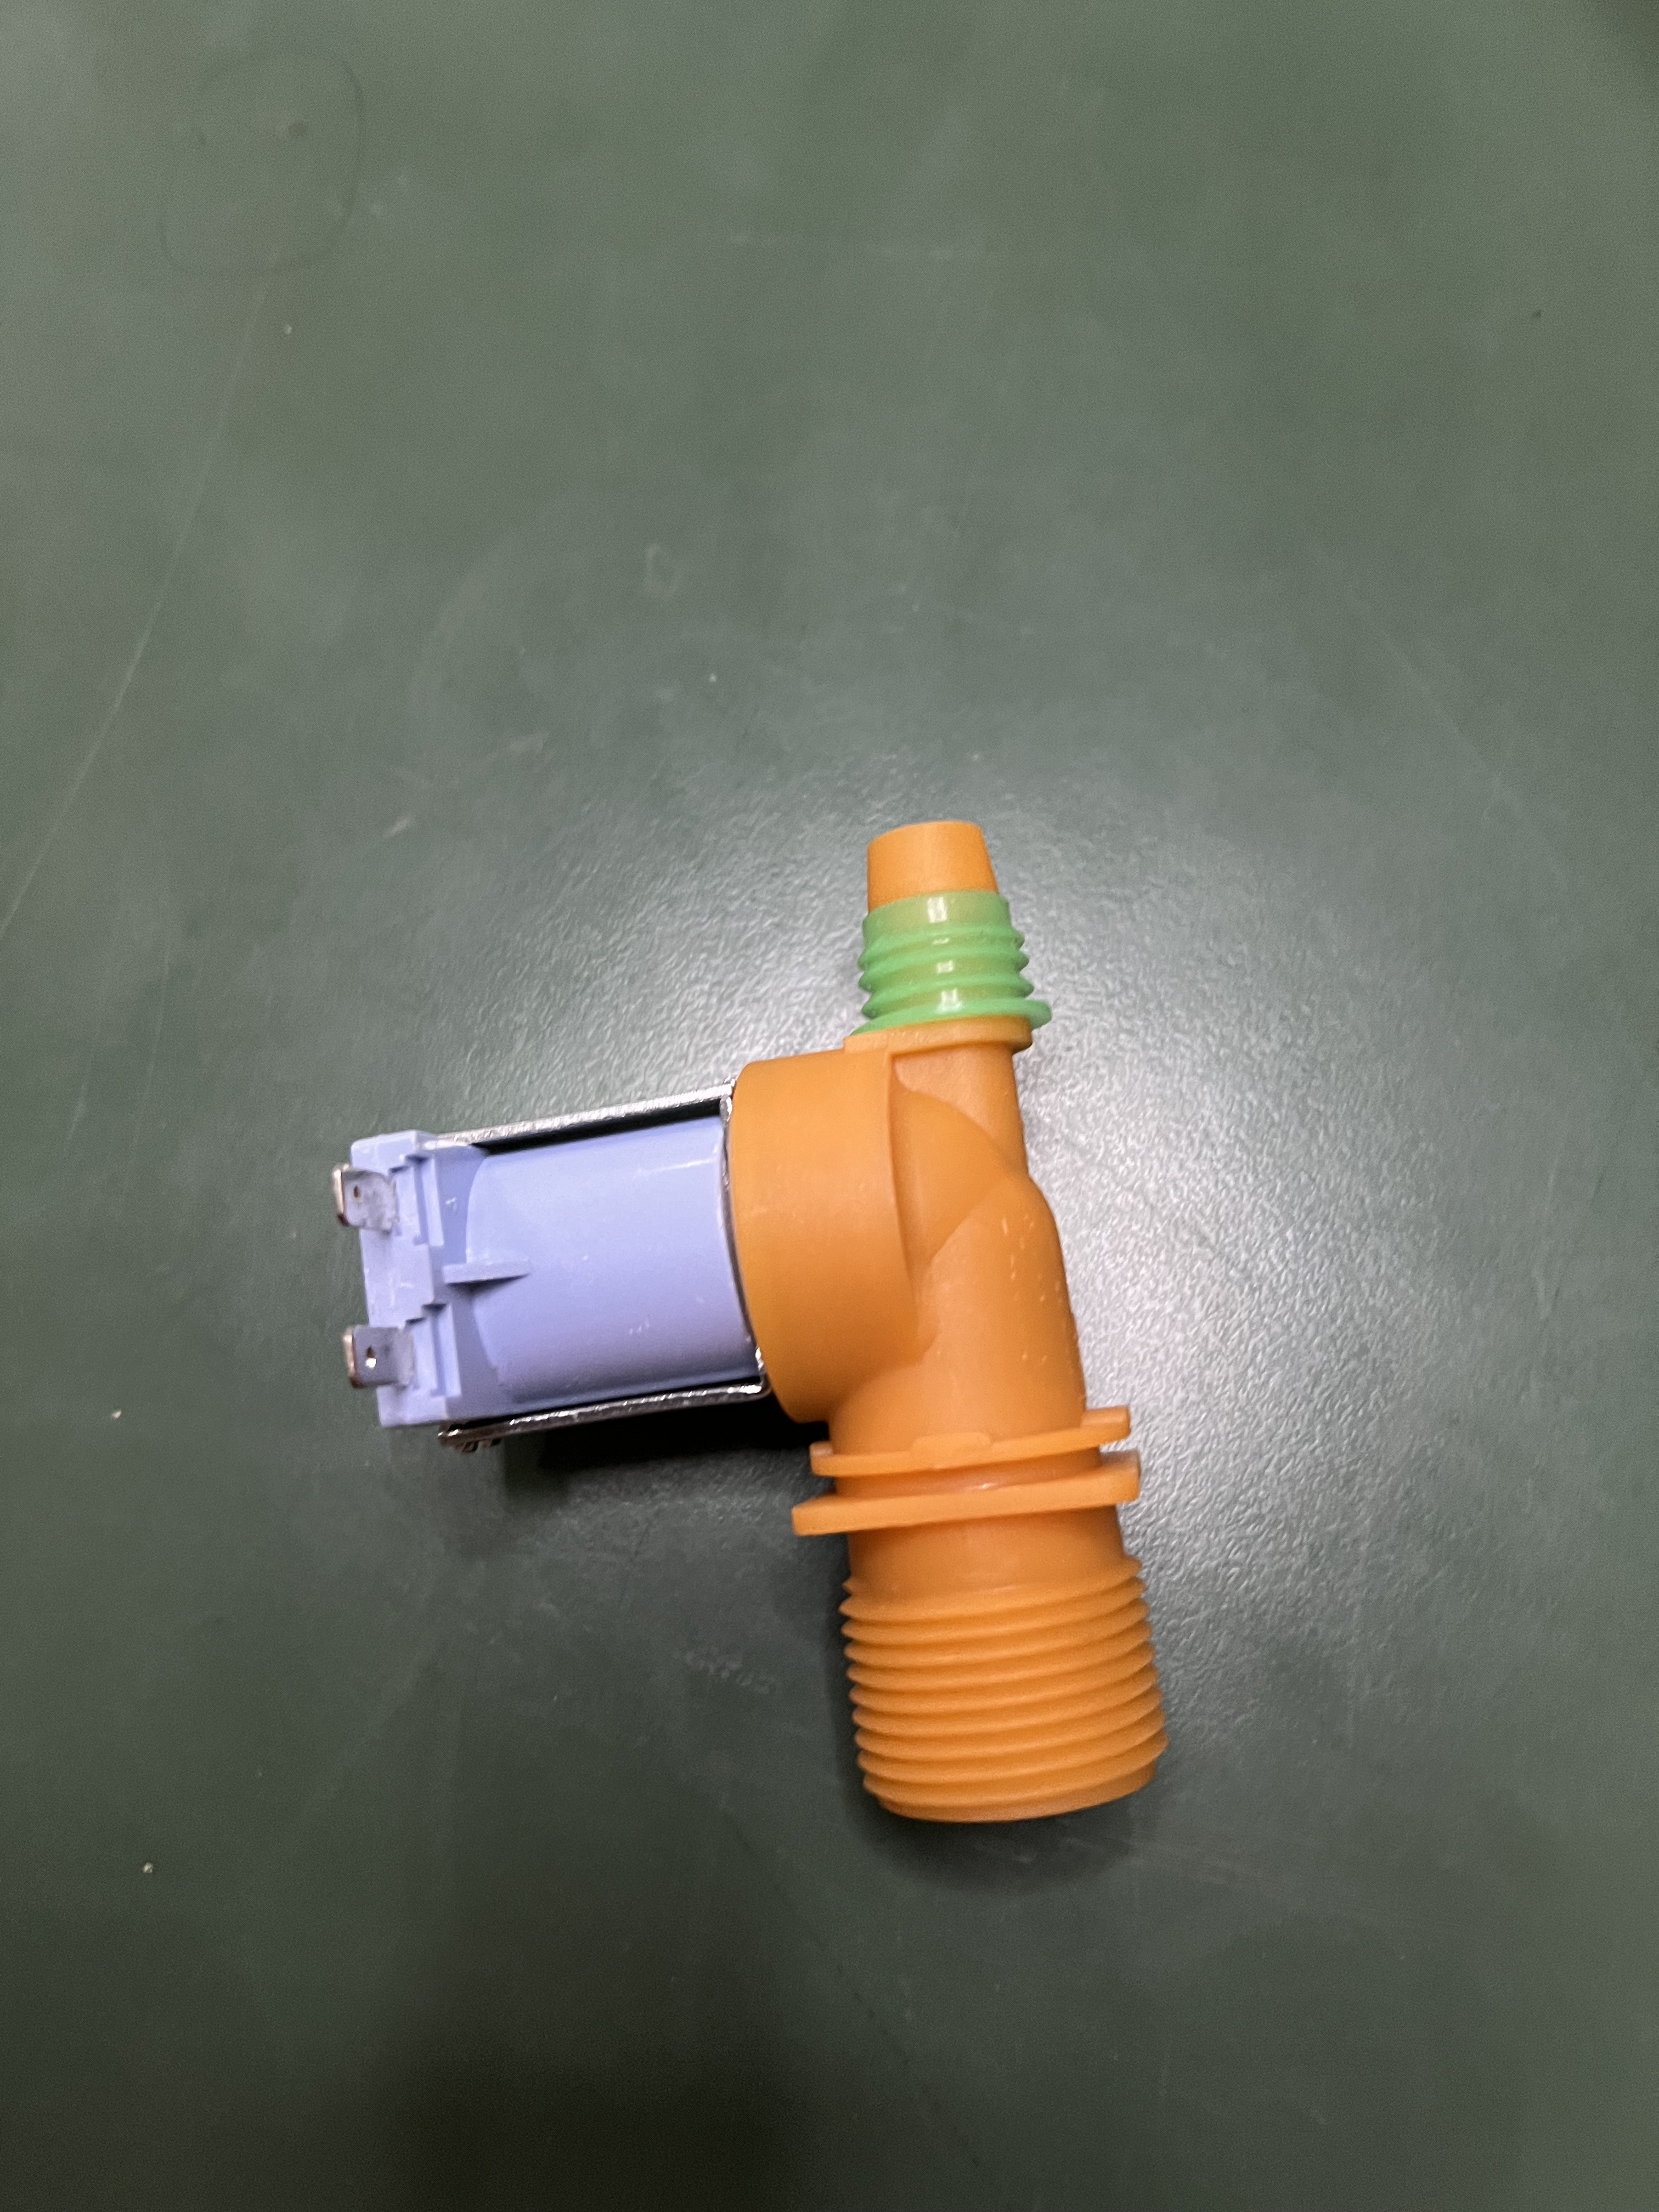ss_inlet_valves: (312, 742, 1195, 1815)
